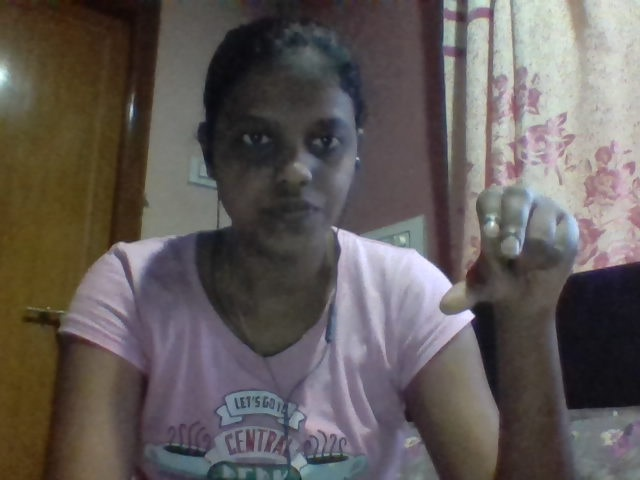No: (415, 159, 631, 386)
